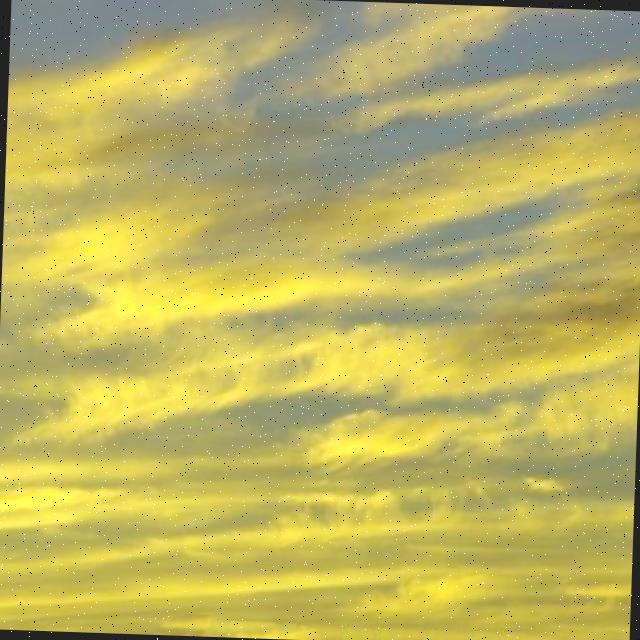Ci: (1, 5, 640, 613)
